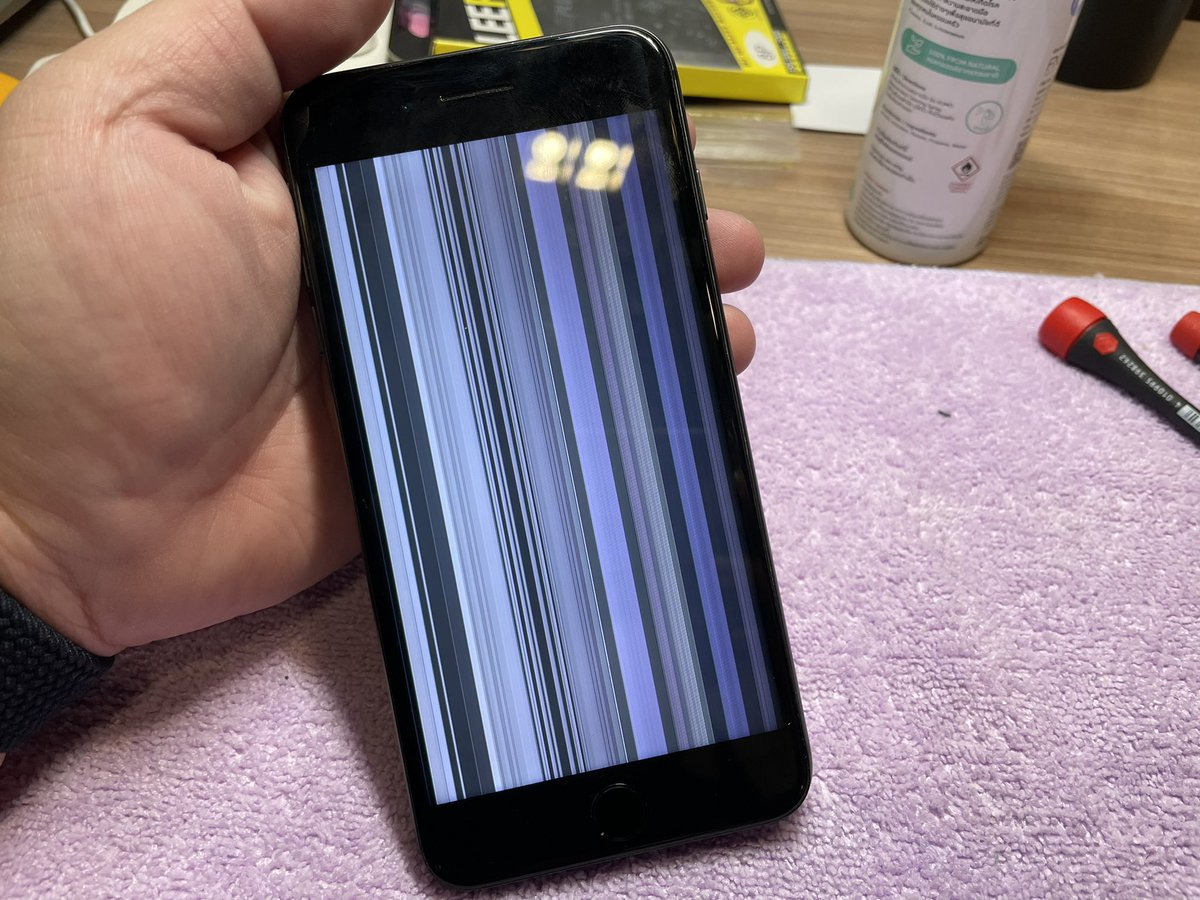Phone: (267, 19, 824, 897)
